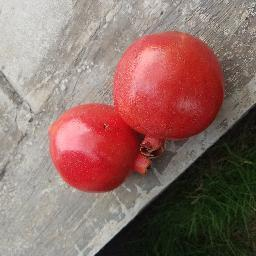Good_pomegranate: (109, 27, 227, 148), (48, 103, 152, 192)
